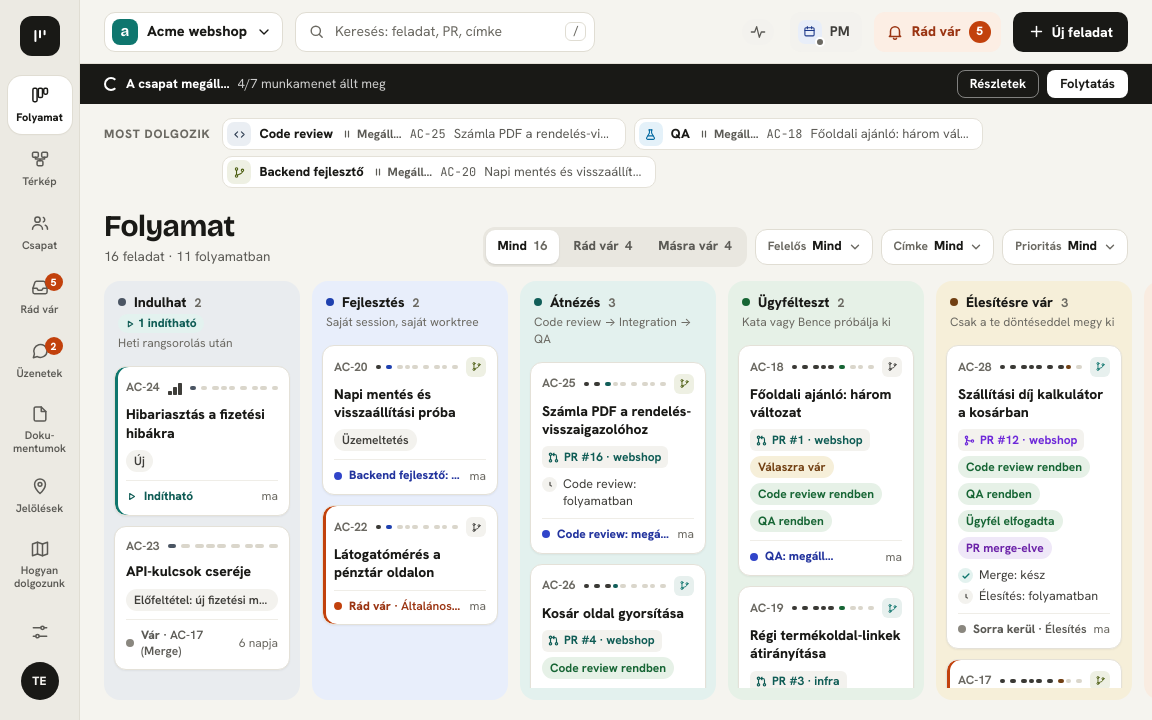
Test: the details and the page › opens the details on the first click on the board, a while after it loaded
Click the button "Részletek" at (998, 84), box [957, 70, 1039, 98]
(page scrolled)
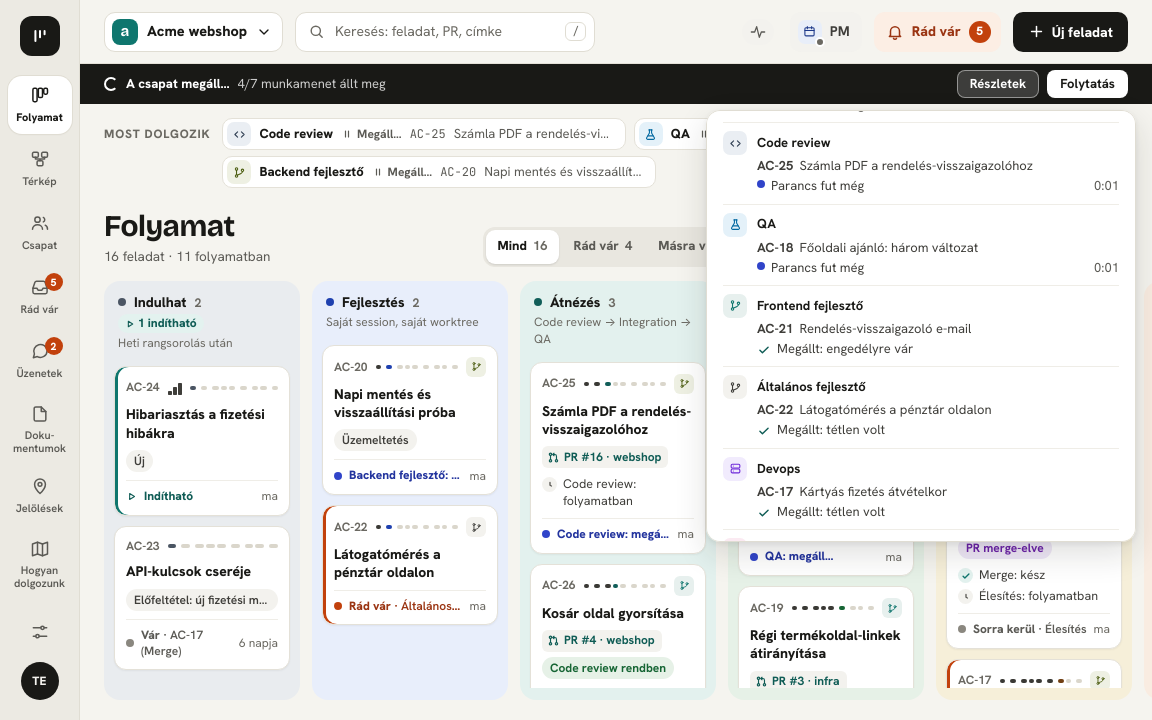
Check: the button "Részletek" is expanded, box [957, 70, 1039, 98]
Check: the list named "Munkamenetek" is shown, box [723, 110, 1119, 542]
